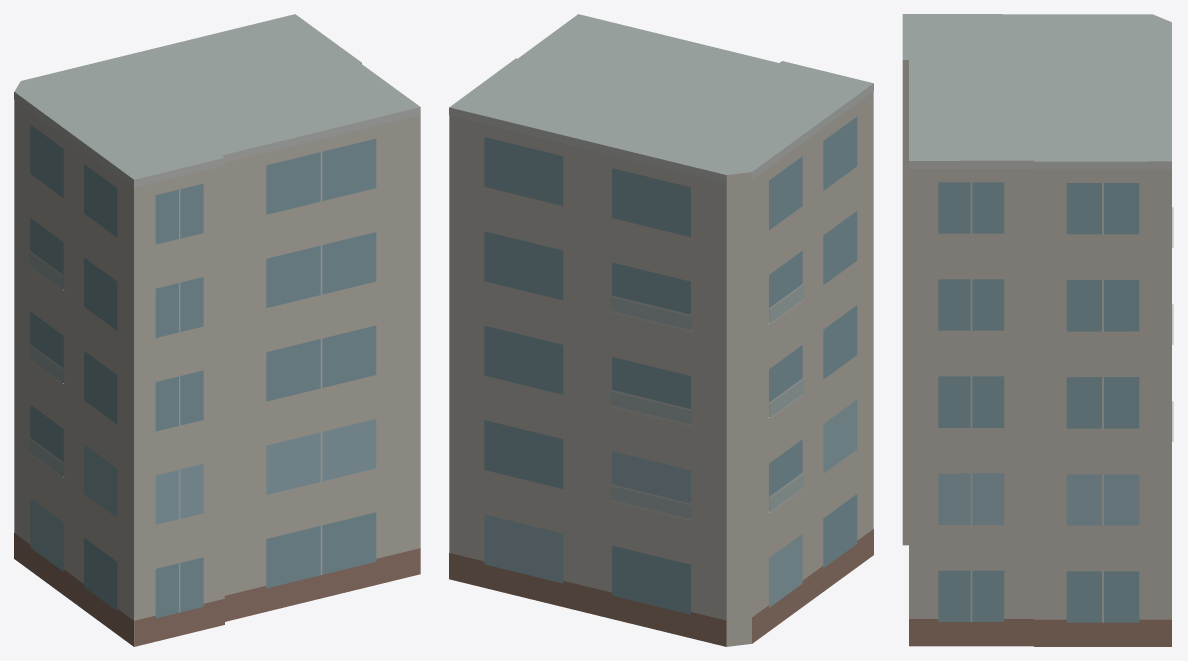
File: survey-upis-32778576.glb
3 views of the same model, side by side, from view 1: azimuth 30°, elevation 25°; view 2: azimuth 150°, elevation 25°; view 3: azimuth 270°, elevation 25° (orthographic). The views are drawn at different scales.
Visible parts, largest first — view 1: survey-upis-32778576.tmp; view 2: survey-upis-32778576.tmp; view 3: survey-upis-32778576.tmp.
Part boxes in pixels (x1=…): survey-upis-32778576.tmp: x1=14, y1=14, x2=420, y2=646; survey-upis-32778576.tmp: x1=449, y1=14, x2=873, y2=646; survey-upis-32778576.tmp: x1=902, y1=14, x2=1173, y2=646.
Size of the model in its own units: 9.43 by 14.4 by 7.29.
